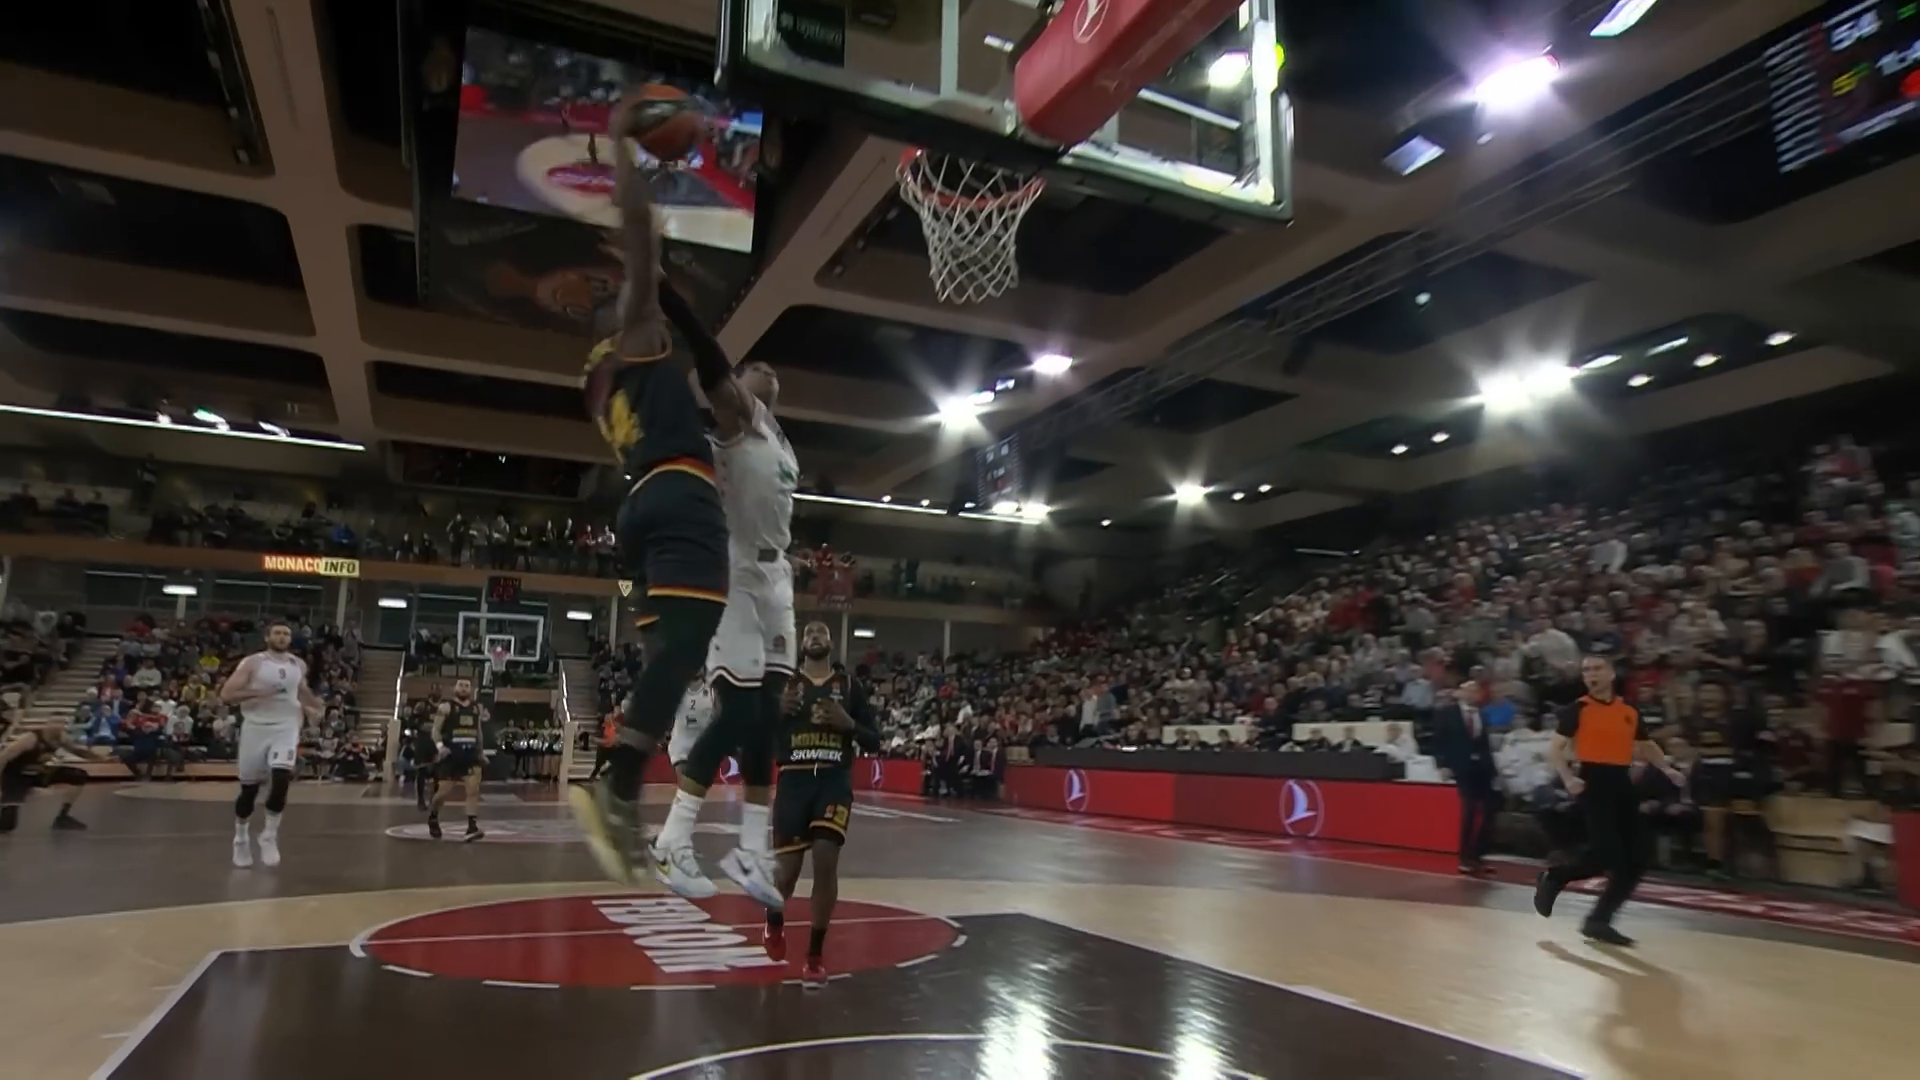ball: (621, 80, 717, 167)
net: (889, 138, 1056, 309)
